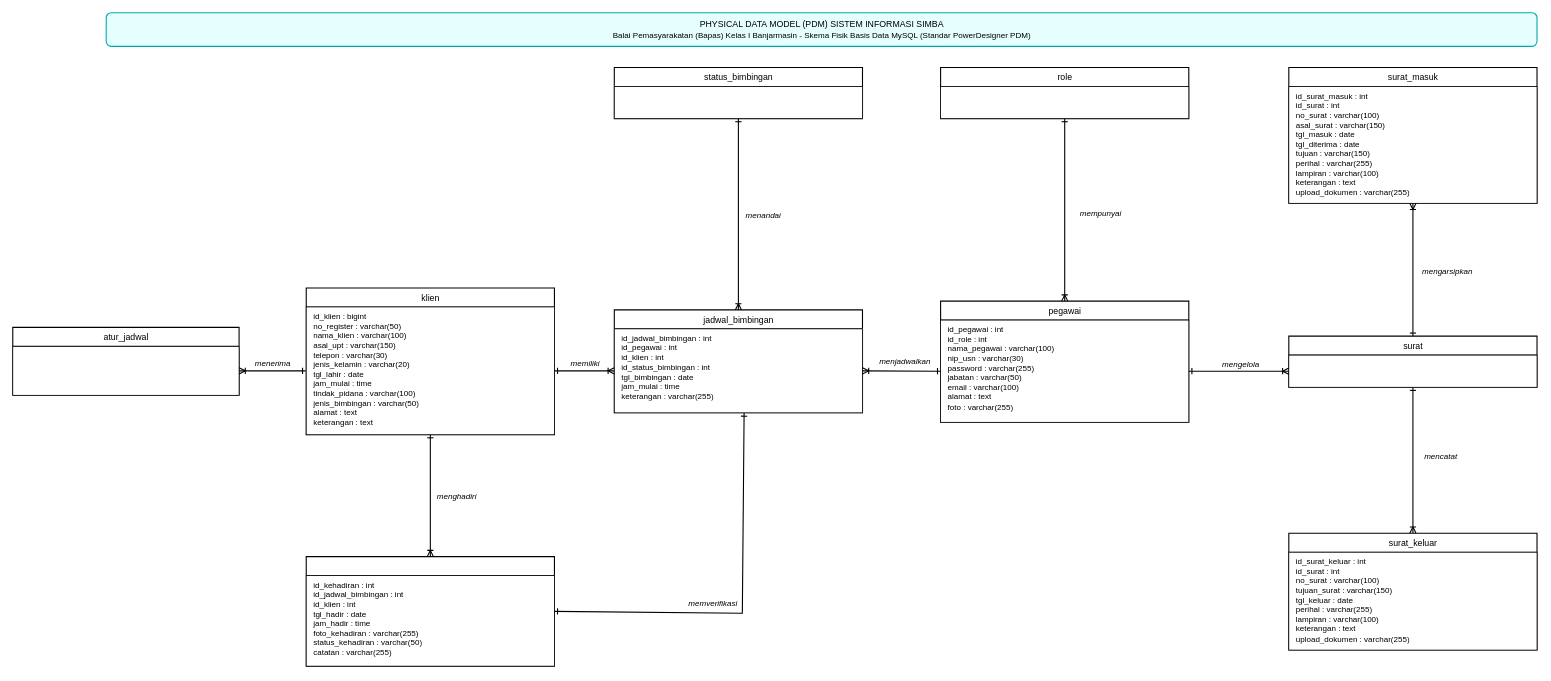
This 1551x681 diagram has some shape labels left out. Here are the shapes that lost their labels. From the top down, the box of each, then its label:
(614, 86, 862, 119): id_status_bimbingan : int nama_status : varchar(50)
(940, 86, 1189, 119): id_role : int nama_role : varchar(50)
(12, 346, 239, 395): id_atur_jadwal : bigint id_klien : bigint hari : varchar(50) jam_mulai : time
(1288, 354, 1537, 387): id_surat : int nama_surat : varchar(100)
(305, 556, 555, 666): kehadiran_klien
